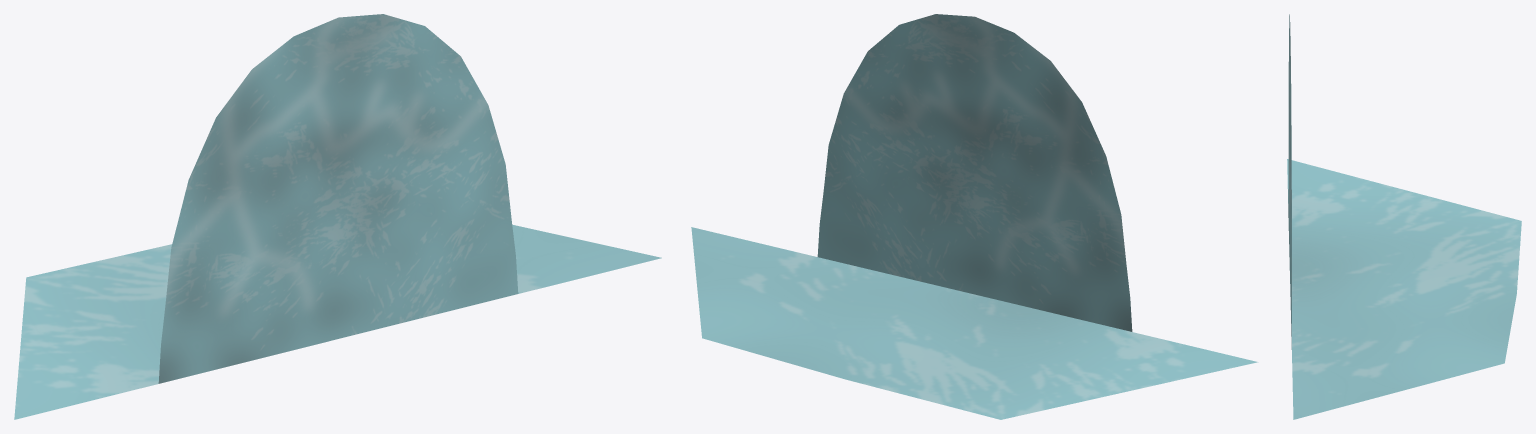
Rendered from LV8Gate.fbx.
3 renders of one model, left to right at view 1: azimuth 30°, elevation 25°; view 2: azimuth 150°, elevation 25°; view 3: azimuth 270°, elevation 25°, orthographic. The views are drawn at different scales.
Visible parts, largest first — view 1: pDisc1; view 2: pDisc1; view 3: pDisc1.
Part boxes in pixels (box(x1,y1,x2,y2)): pDisc1: box(14, 14, 661, 419); pDisc1: box(691, 14, 1258, 419); pDisc1: box(1287, 14, 1521, 419).
Bounding box in the file's own units: 61.59 × 29 × 23.4.
